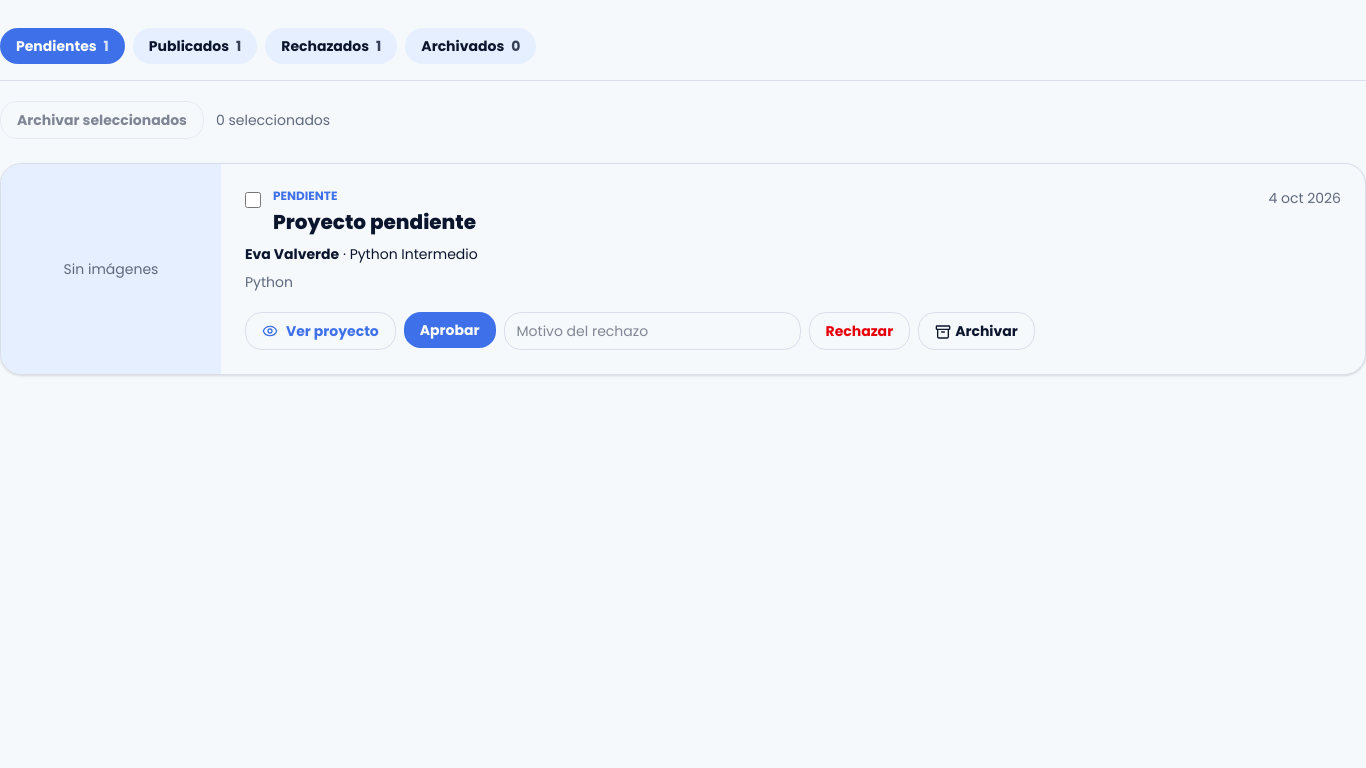
Test: AdminProjectModeration › abre el detalle con autor, curso, enlaces y acciones
This screenshot has width=1366, height=768.
Click the button "Ver proyecto" at (320, 331), box [245,312,396,350]
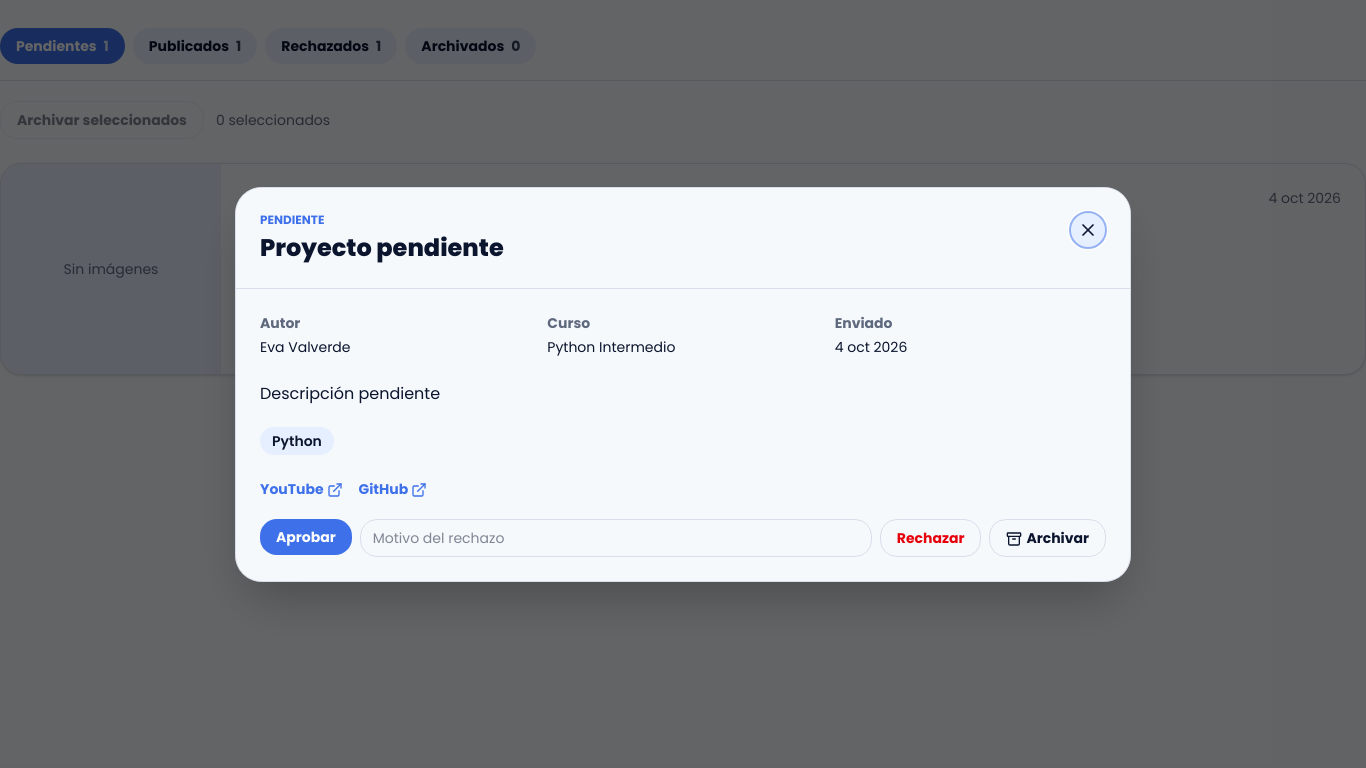
Expected: the text "Python Intermedio" is shown, [547,336,675,356]
Expected: the text "Descripción pendiente" is shown, [260,382,440,404]
Expected: the button "Aprobar" is shown, [260,518,352,554]
